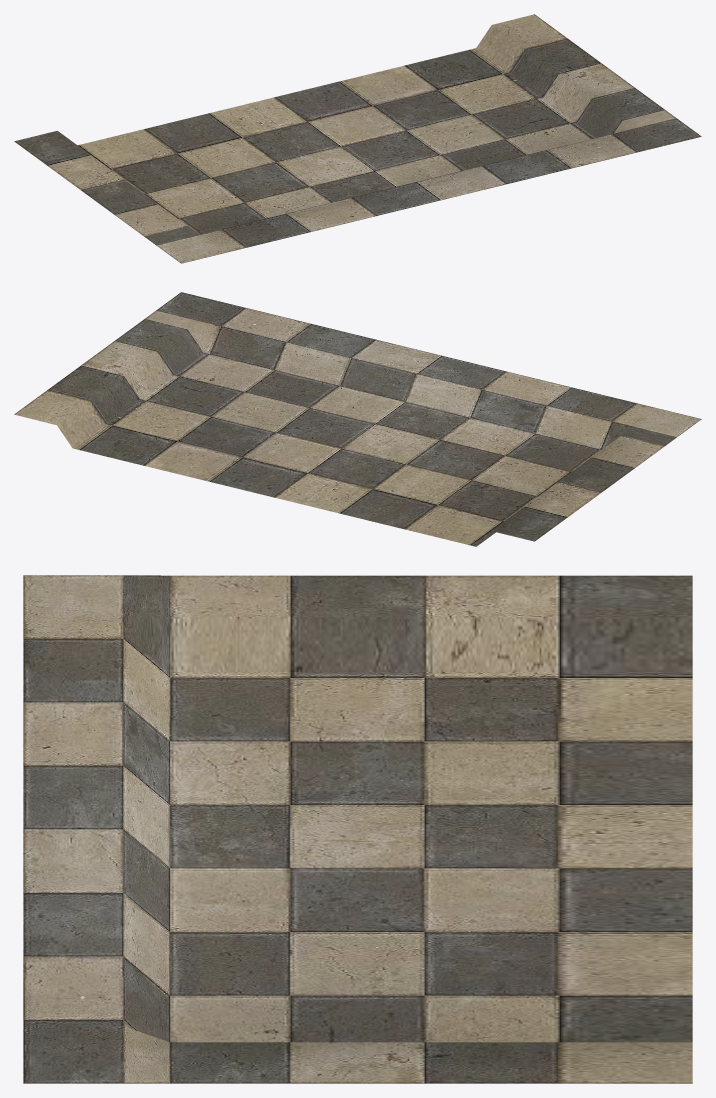
File: str_floor2.fbx
3 views of the same model, one above another, from view 1: azimuth 30°, elevation 25°; view 2: azimuth 150°, elevation 25°; view 3: azimuth 270°, elevation 25° (orthographic). The views are drawn at different scales.
Parts seen in each view (by area): view 1: straight_floor1:pPlane1; view 2: straight_floor1:pPlane1; view 3: straight_floor1:pPlane1.
Part boxes in pixels (x1,y1,x2,y2): straight_floor1:pPlane1: (14,14,701,263); straight_floor1:pPlane1: (14,292,701,546); straight_floor1:pPlane1: (23,575,692,1083).
Size of the model in its own units: 60 by 2.15 by 33.39.
